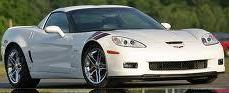front_view: (108, 30, 226, 82)
headlight: (110, 34, 149, 51)
side_glass: (44, 8, 71, 35)
